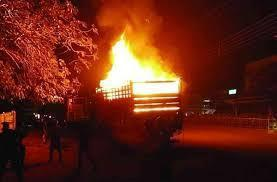fire: (97, 31, 196, 110)
